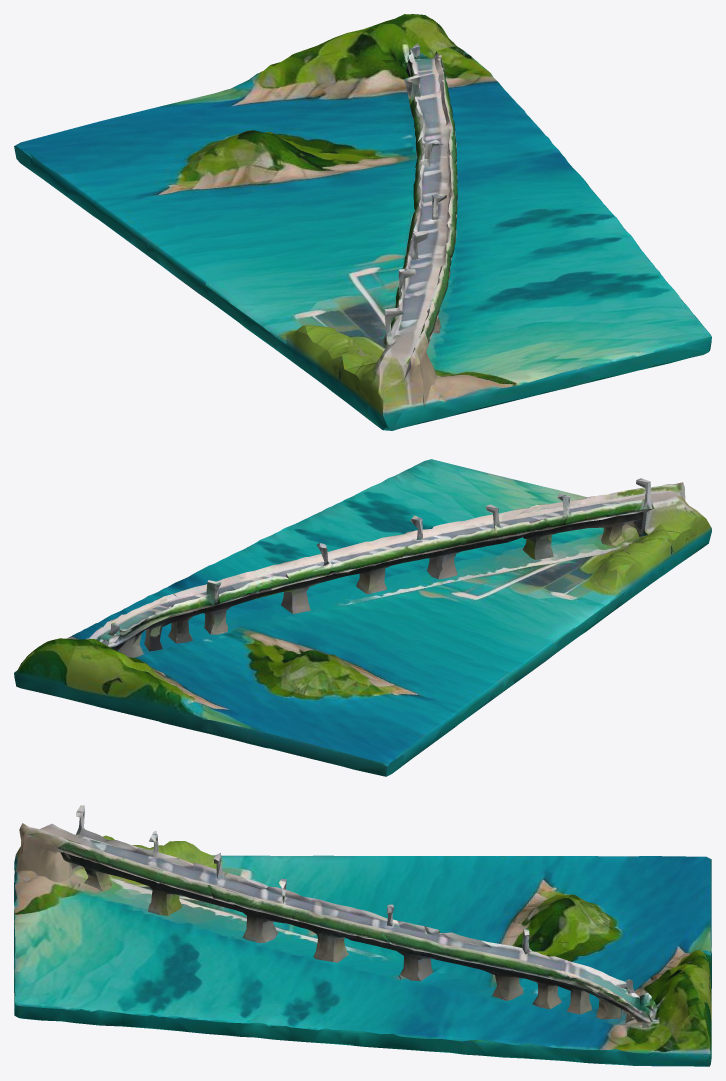
The model's file is tsunoshima-bridge.glb.
3 views of the same model, one above another, from view 1: azimuth 30°, elevation 25°; view 2: azimuth 150°, elevation 25°; view 3: azimuth 270°, elevation 25° (orthographic). The views are drawn at different scales.
Visible parts, largest first — view 1: logan-textured.obj; view 2: logan-textured.obj; view 3: logan-textured.obj.
Boxes of the visible parts, x1,y1,x2,y2 form: logan-textured.obj: (14, 14, 711, 430); logan-textured.obj: (14, 459, 711, 776); logan-textured.obj: (14, 805, 711, 1066).
Bounding box in the file's own units: 0.6725 × 0.1296 × 1.
1 material, 1 textured.
